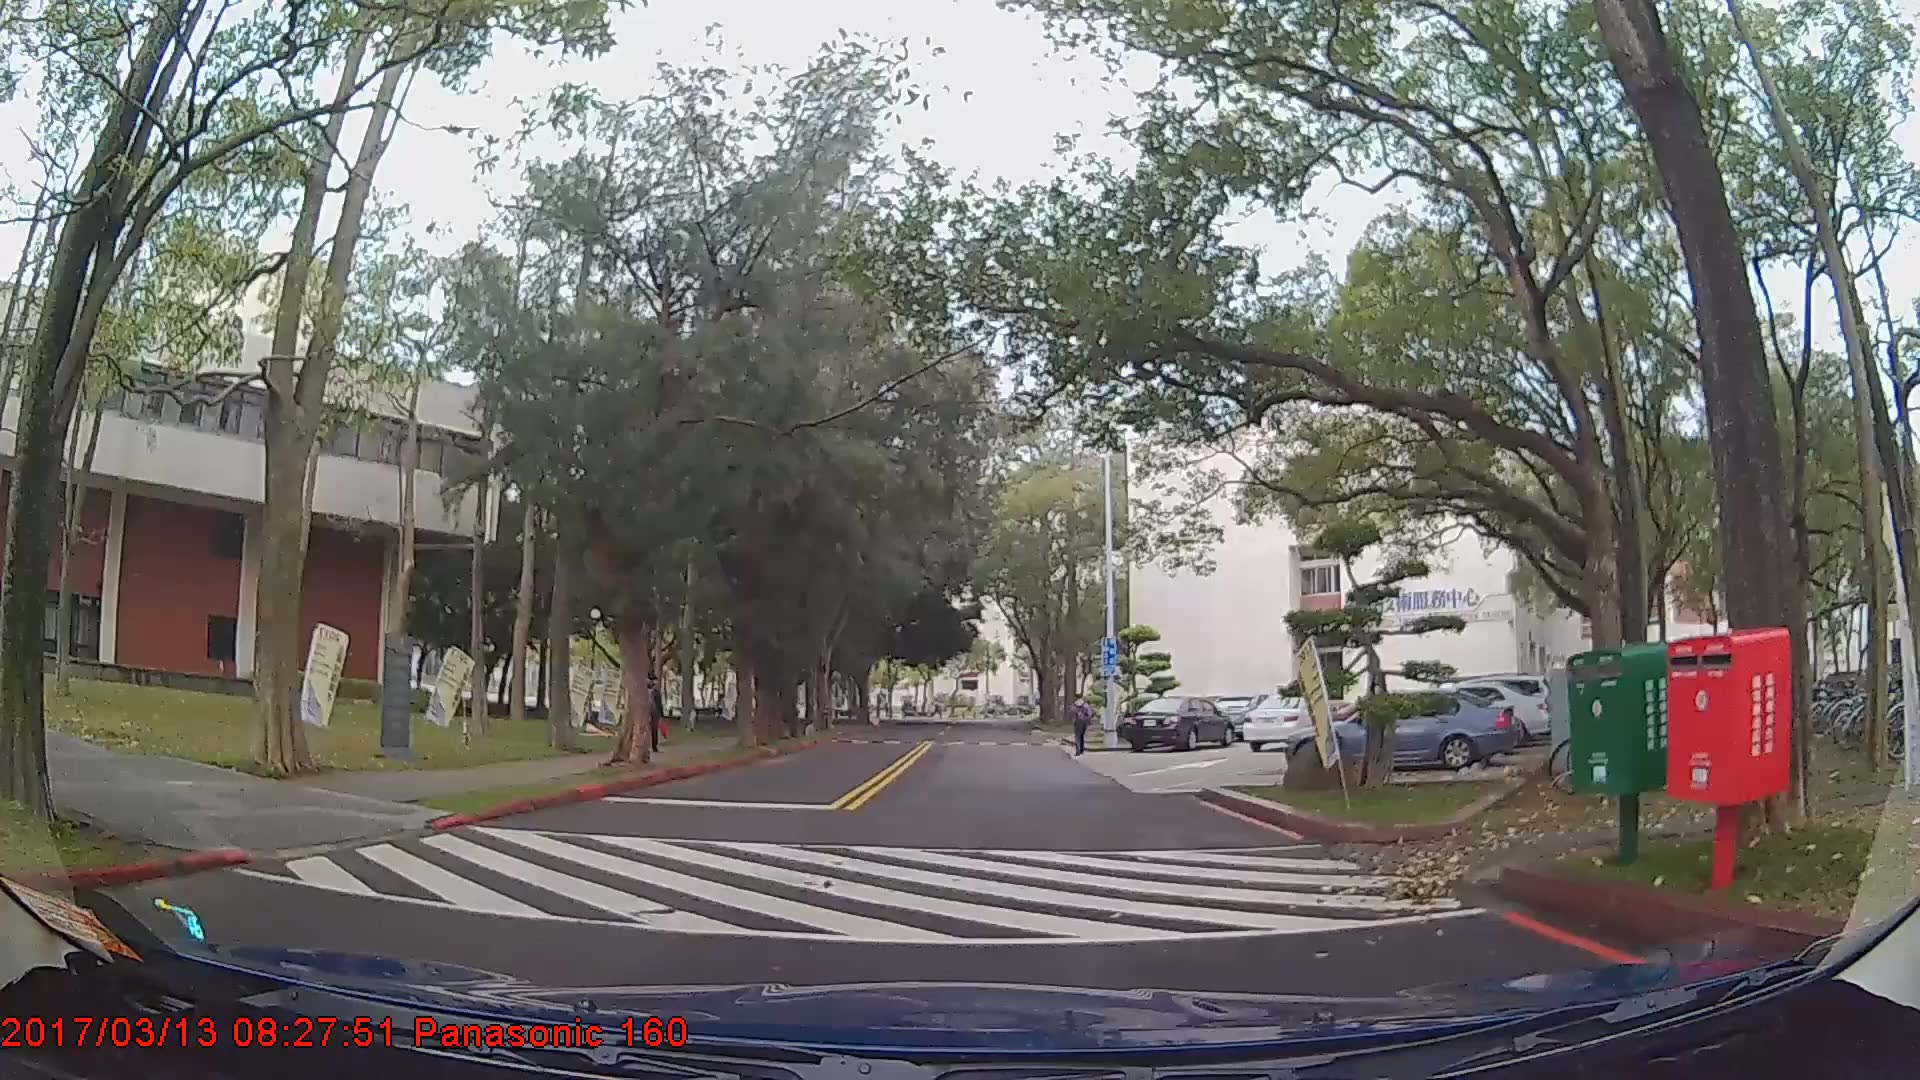pedestrian: (635, 672, 666, 754), (1068, 693, 1096, 757)
vehicle: (1284, 684, 1516, 775), (1391, 680, 1550, 744), (1119, 696, 1234, 751), (1241, 691, 1334, 751)
